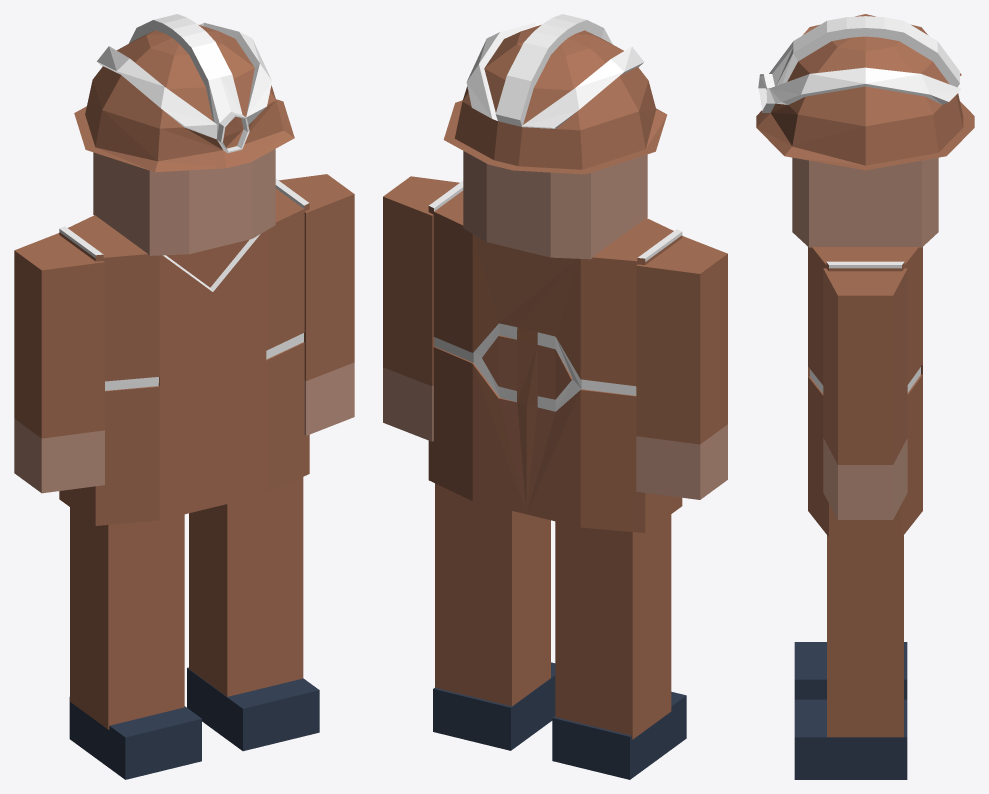
File: white guy 2.fbx
The picture shows the model from 3 angles, left to right: view 1: azimuth 30°, elevation 25°; view 2: azimuth 150°, elevation 25°; view 3: azimuth 270°, elevation 25°; orthographic projection.
Visible parts, largest first — view 1: polySurface139; view 2: polySurface139; view 3: polySurface139.
Boxes of the visible parts, x1,y1,x2,y2 form: polySurface139: (14, 14, 354, 779); polySurface139: (383, 14, 727, 779); polySurface139: (756, 14, 974, 779).
Size of the model in its own units: 88.75 by 191 by 53.3.
